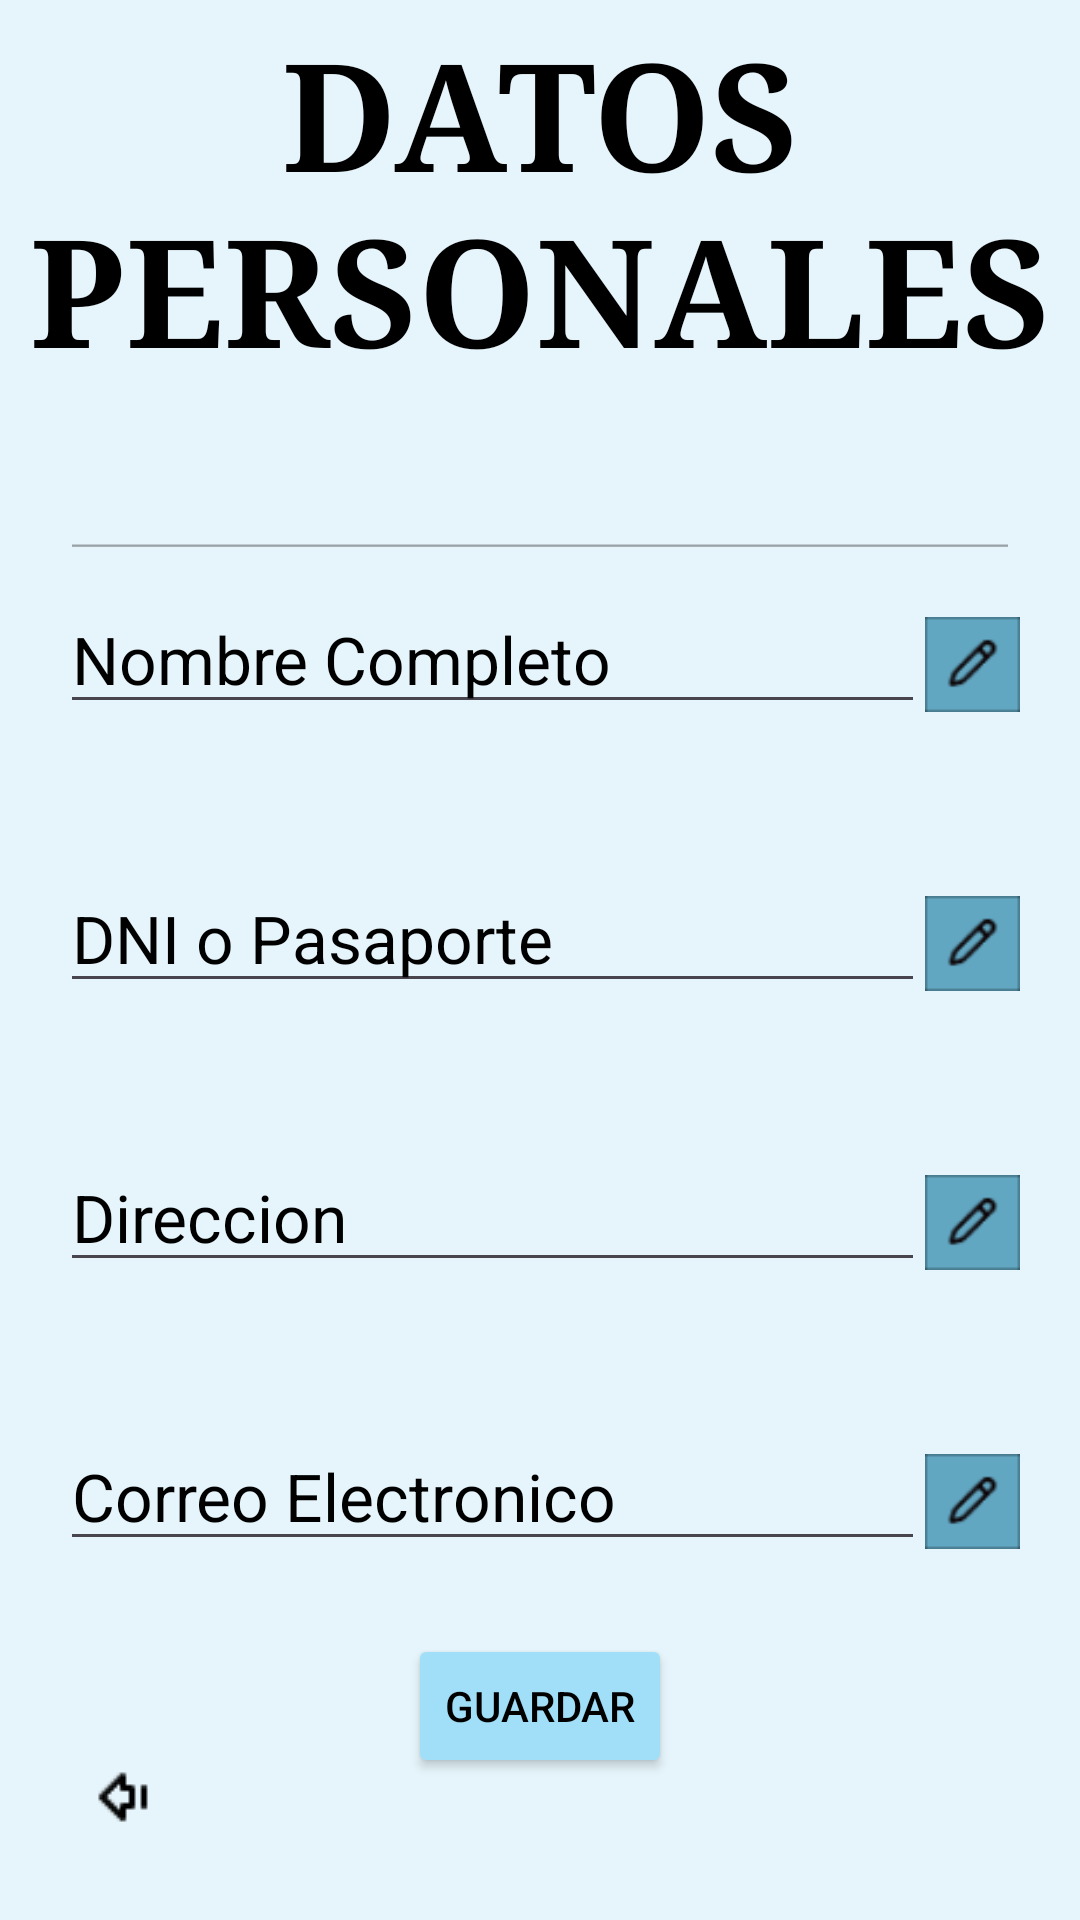

Icon click points for this 1080 × 1920 phone screenshot, format (x,y):
back: (123,1797)
editboton: (972,664), (972,943), (972,1222), (972,1501)
